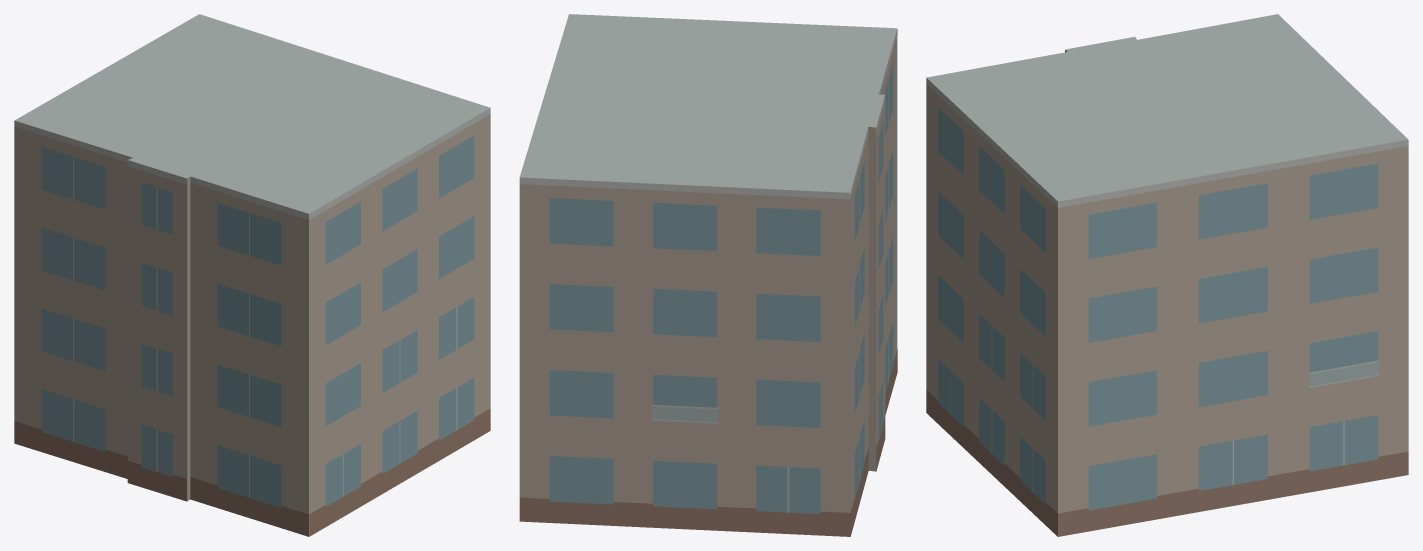
The model's file is survey-upis-32886134.glb.
3 renders of one model, left to right at view 1: azimuth 30°, elevation 25°; view 2: azimuth 150°, elevation 25°; view 3: azimuth 270°, elevation 25°, orthographic. The views are drawn at different scales.
Visible parts, largest first — view 1: survey-upis-32886134.tmp; view 2: survey-upis-32886134.tmp; view 3: survey-upis-32886134.tmp.
Boxes of the visible parts, bbox=[...] form: survey-upis-32886134.tmp: bbox=[14, 14, 490, 536]; survey-upis-32886134.tmp: bbox=[519, 14, 897, 536]; survey-upis-32886134.tmp: bbox=[926, 14, 1408, 536].
Size of the model in its own units: 15.31 by 12.75 by 16.63.
